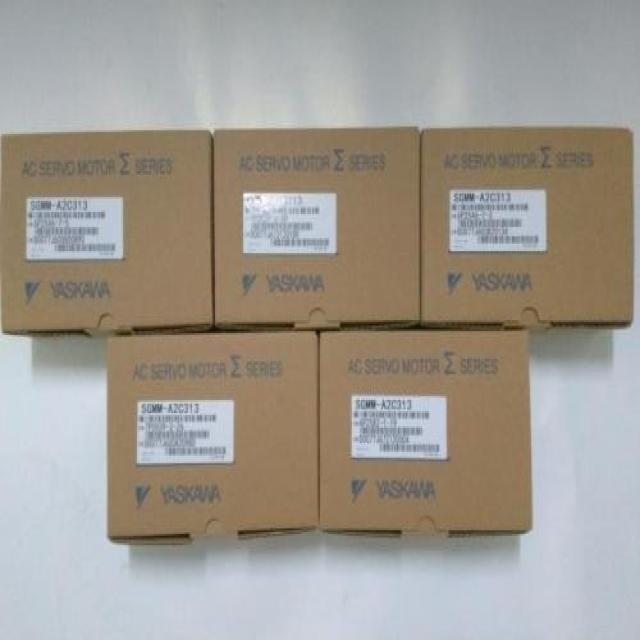box: (105, 329, 319, 541), (319, 329, 532, 534), (0, 132, 211, 337), (419, 128, 634, 327), (212, 127, 417, 327)
